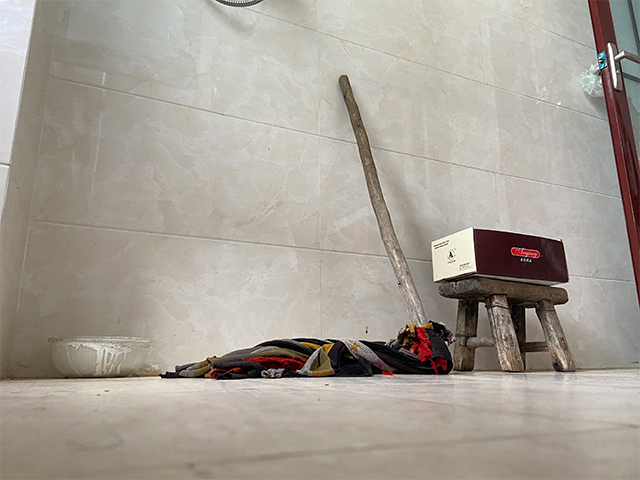stool: (436, 277, 577, 373)
